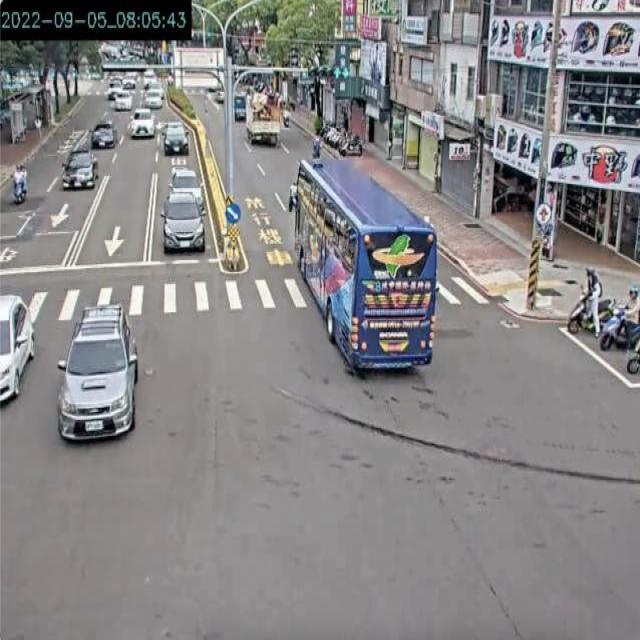Bus: (287, 156, 438, 376)
Car: (55, 302, 138, 443), (0, 294, 35, 405)
Motorcycle: (10, 176, 27, 204)
